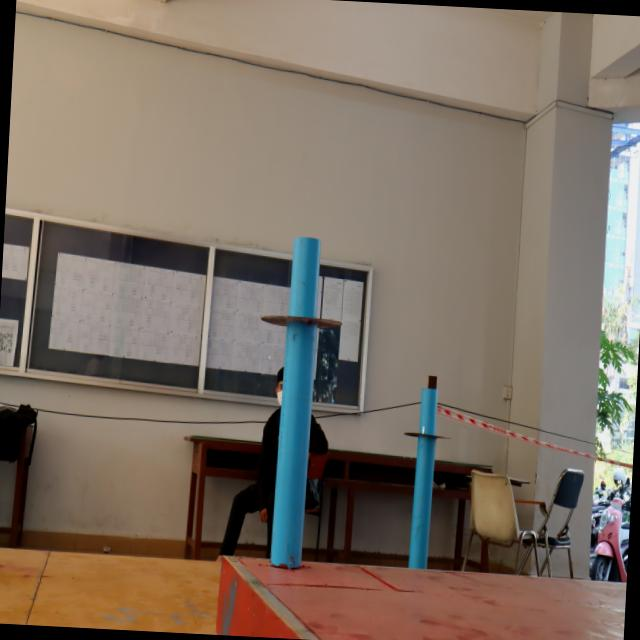pole: (255, 230, 352, 393), (401, 386, 453, 484)
